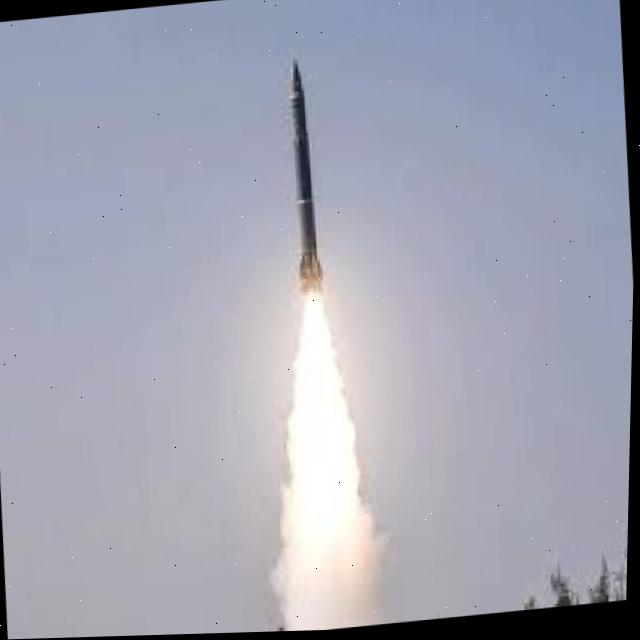missile: (283, 57, 339, 300)
